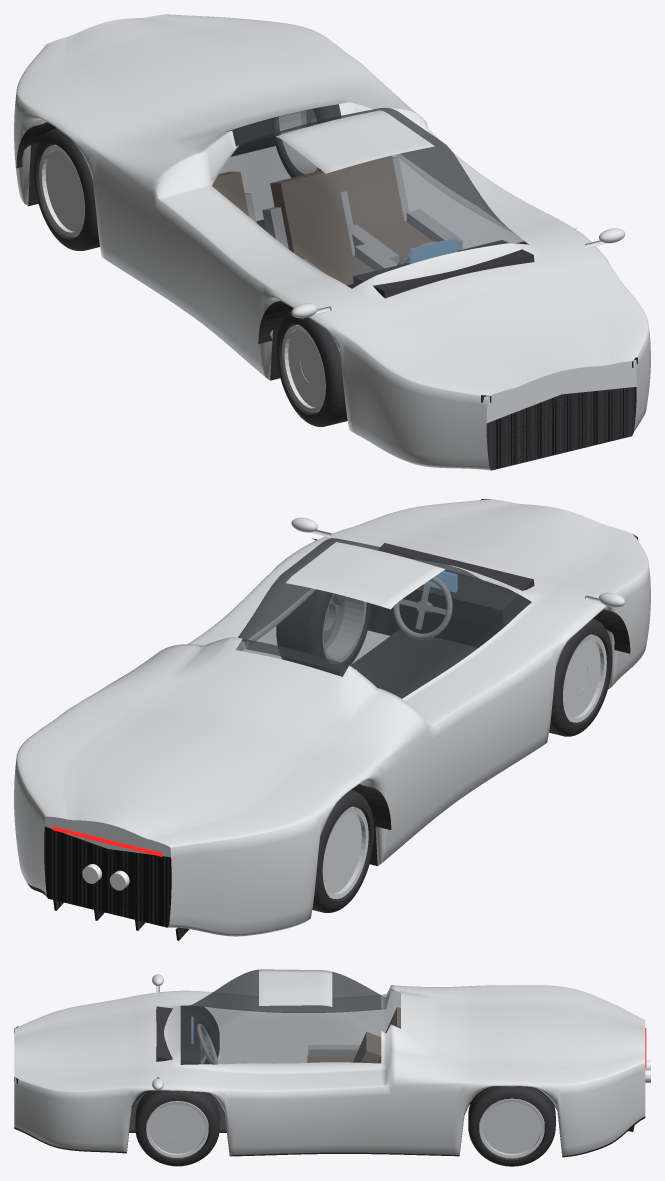
Rendered from mclaren-speedtail.glb.
The picture shows the model from 3 angles, top to bottom: view 1: azimuth 30°, elevation 25°; view 2: azimuth 150°, elevation 25°; view 3: azimuth 270°, elevation 25°; orthographic projection. The views are drawn at different scales.
Parts seen in each view (by area): view 1: Body_PrimaryPaint, Glass_Windows, Interior_Seats, Carbon_Exterior, Interior_SeatBolsters, Tire_FR, Rim_RR, Tire_RR, Rim_FR, Interior_Dashboard, Underbody, WheelWells (+3 smaller); view 2: Body_PrimaryPaint, Glass_Windows, Carbon_Exterior, Interior_Dashboard, Interior_Tub, Rim_RR, Tire_FL, Underbody, Rim_FR, Tire_FR, Tire_RR, WheelWells (+4 smaller); view 3: Body_PrimaryPaint, Glass_Windows, Rim_RL, Tire_RL, Rim_FL, Tire_FL, Interior_Dashboard, Interior_Seats, Underbody, Tire_FR, Interior_SeatBolsters, Interior_SteeringWheel (+1 smaller).
Part boxes in pixels (box(x1,y1,x2,y2)): Body_PrimaryPaint: box(14, 14, 650, 470); Glass_Windows: box(212, 104, 528, 288); Interior_Seats: box(212, 155, 432, 285); Carbon_Exterior: box(486, 387, 636, 470); Interior_SeatBolsters: box(244, 157, 462, 273); Tire_FR: box(276, 310, 347, 426); Rim_RR: box(39, 144, 84, 237); Tire_RR: box(33, 128, 99, 250); Rim_FR: box(282, 324, 325, 412); Interior_Dashboard: box(353, 240, 534, 298); Underbody: box(28, 118, 641, 428); WheelWells: box(16, 122, 576, 343); Body_PrimaryPaint: box(14, 499, 650, 936); Glass_Windows: box(236, 538, 531, 698); Carbon_Exterior: box(44, 826, 189, 940); Interior_Dashboard: box(378, 543, 534, 629); Interior_Tub: box(337, 629, 477, 698); Rim_RR: box(322, 806, 368, 898); Tire_FL: box(276, 589, 371, 674); Underbody: box(27, 604, 608, 897); Rim_FR: box(563, 634, 606, 722); Tire_FR: box(549, 618, 612, 736); Tire_RR: box(312, 790, 374, 912); WheelWells: box(312, 538, 630, 829); Body_PrimaryPaint: box(14, 969, 645, 1155); Glass_Windows: box(180, 969, 400, 1064); Rim_RL: box(479, 1098, 544, 1158); Tire_RL: box(468, 1086, 555, 1166); Rim_FL: box(146, 1101, 208, 1157); Tire_FL: box(135, 1091, 219, 1166); Interior_Dashboard: box(156, 1006, 200, 1064); Interior_Seats: box(307, 1007, 400, 1063); Underbody: box(14, 1086, 645, 1157); Tire_FR: box(180, 1005, 219, 1064); Interior_SeatBolsters: box(308, 1045, 359, 1056); Interior_SteeringWheel: box(196, 1023, 217, 1064).
Bounding box in the file's own units: 2.17 × 1.19 × 5.19.
Materials: 16 (2 with a texture image).
